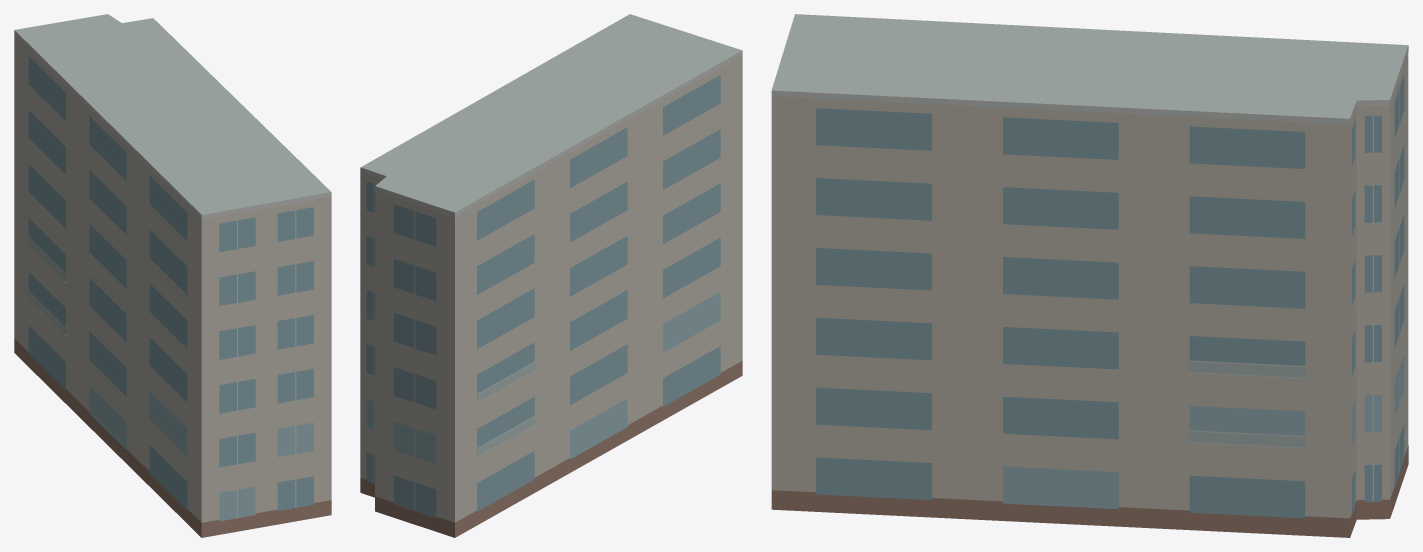
The model's file is survey-upis-32937066.glb.
3 renders of one model, left to right at view 1: azimuth 30°, elevation 25°; view 2: azimuth 150°, elevation 25°; view 3: azimuth 270°, elevation 25°, orthographic. The views are drawn at different scales.
Parts seen in each view (by area): view 1: survey-upis-32937066.tmp; view 2: survey-upis-32937066.tmp; view 3: survey-upis-32937066.tmp.
Boxes of the visible parts, <box> form: survey-upis-32937066.tmp: <box>14,14,331,537</box>; survey-upis-32937066.tmp: <box>360,14,742,537</box>; survey-upis-32937066.tmp: <box>771,14,1408,537</box>.
Size of the model in its own units: 9.44 by 17.6 by 24.25.
